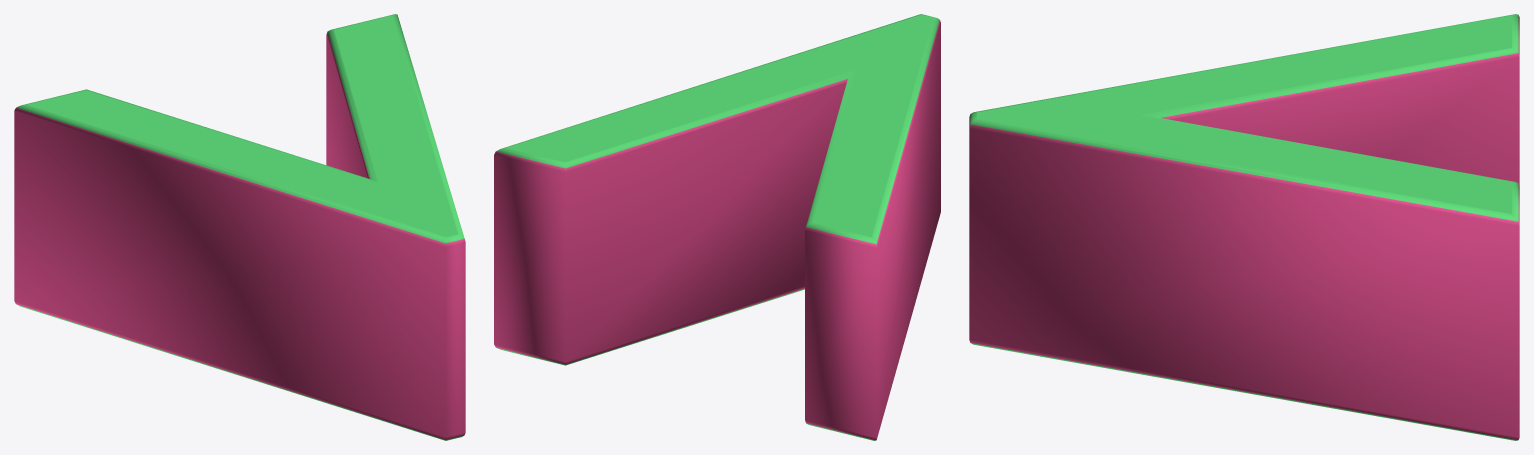
File: letter_V.fbx
3 views of the same model, side by side, from view 1: azimuth 30°, elevation 25°; view 2: azimuth 150°, elevation 25°; view 3: azimuth 270°, elevation 25° (orthographic). The views are drawn at different scales.
Visible parts, largest first — view 1: Letter_V; view 2: Letter_V; view 3: Letter_V.
Boxes of the visible parts, x1,y1,x2,y2 form: Letter_V: (14,14,465,440); Letter_V: (494,14,940,440); Letter_V: (969,14,1519,440).
Size of the model in its own units: 63.42 by 32 by 70.8.
